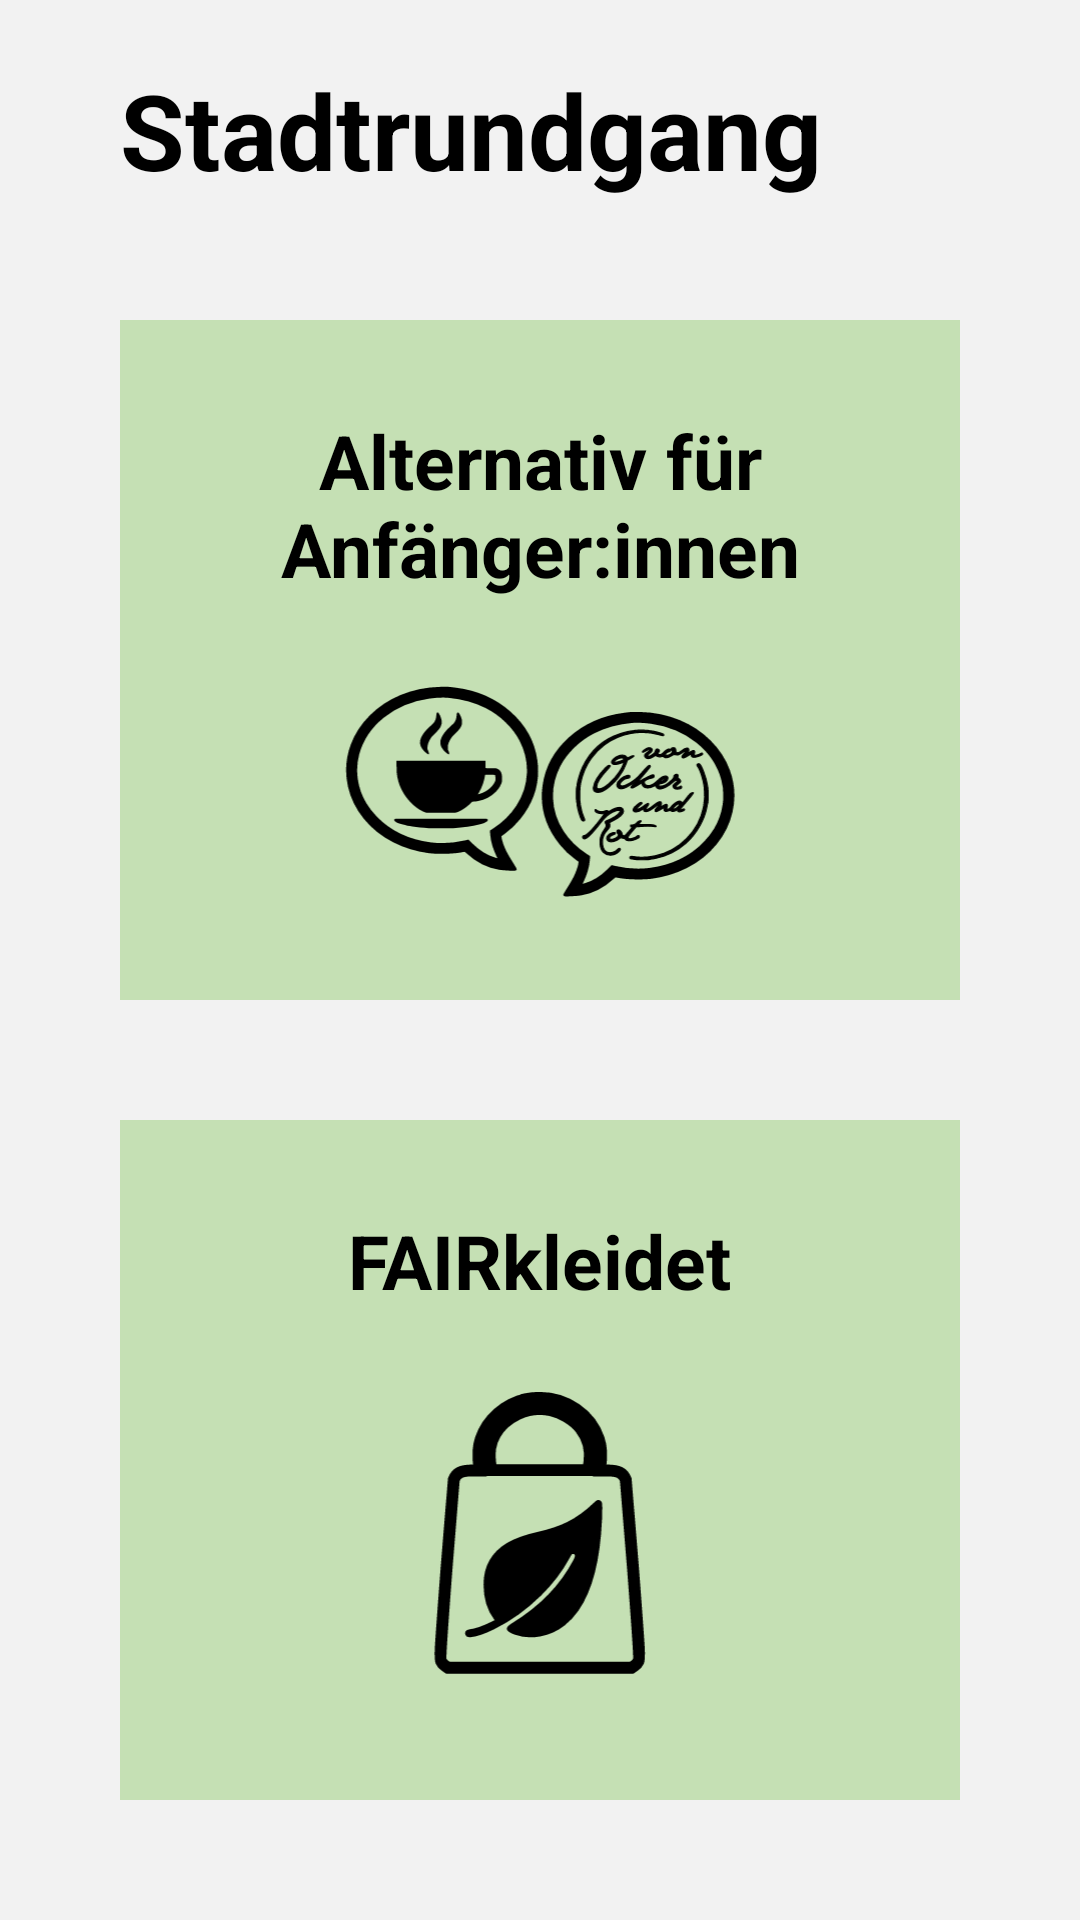

Point at icon controls on the screen. Image size 1080px x 1920px, points as (x=x, y=y).
shopping: (x=540, y=1533)
